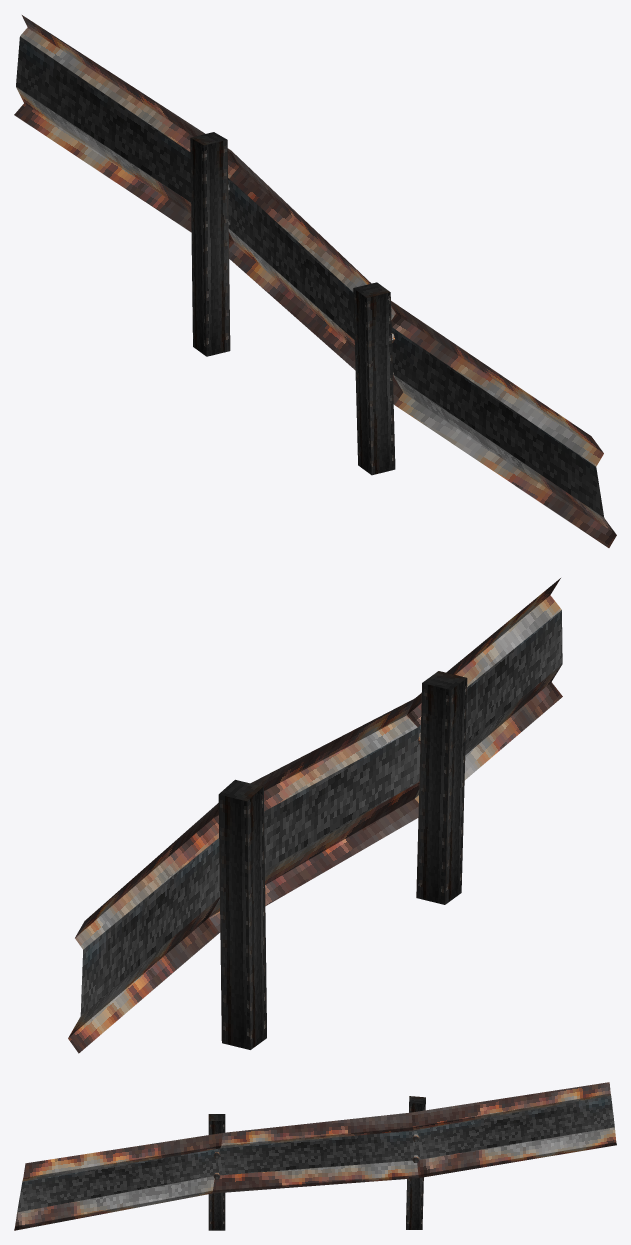
File: highwaybarrier.fbx
3 views of the same model, one above another, from view 1: azimuth 30°, elevation 25°; view 2: azimuth 150°, elevation 25°; view 3: azimuth 270°, elevation 25° (orthographic). The views are drawn at different scales.
Visible parts, largest first — view 1: Cylinder; view 2: Cylinder; view 3: Cylinder.
Part boxes in pixels (<box>): Cylinder: <box>14,15,616,547</box>; Cylinder: <box>68,578,562,1053</box>; Cylinder: <box>14,1082,616,1230</box>.
Bounding box in the file's own units: 225 × 451 × 1818.
Materials: 1 (1 with a texture image).
